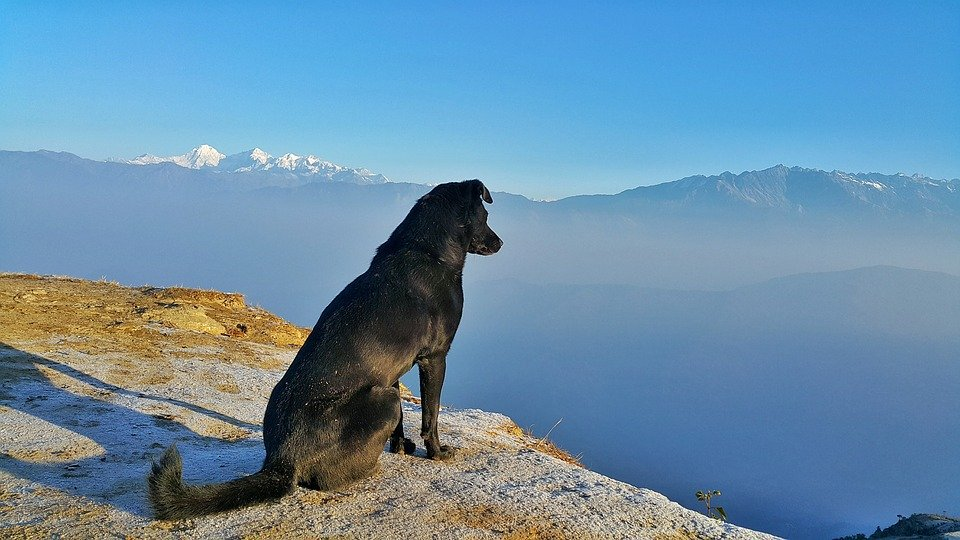dog: (175, 174, 516, 503)
